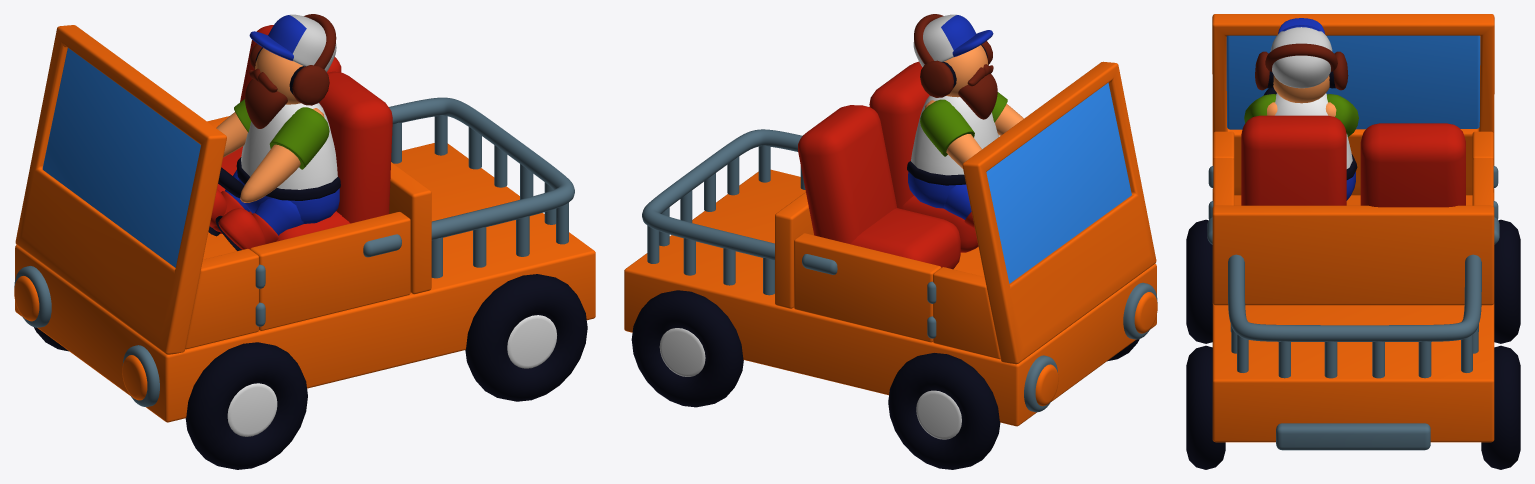
File: Car_v1.fbx
3 renders of one model, left to right at view 1: azimuth 30°, elevation 25°; view 2: azimuth 150°, elevation 25°; view 3: azimuth 270°, elevation 25°, orthographic. The views are drawn at different scales.
Parts seen in each view (by area): view 1: Cube.020, Cube.021, Cube.015, Cube.027, Torus.002, WheelLeft, Cube.024, NurbsPath.002, Cube.028, Cylinder.010, Cube.022, Cube.186 (+18 smaller); view 2: Cube.020, Cube.021, Cube.015, Cube.027, Cube.026, WheelRight, Torus.002, NurbsPath.002, Cube.028, Cube.024, Cube.025, Cylinder.010 (+17 smaller); view 3: Cube.020, Cube.022, Cube.015, Cube.021, Cube.024, Cube.026, Torus.002, NurbsPath.002, Cube.017, Cylinder.010, WheelLeft, WheelRight (+8 smaller).
Part boxes in pixels (left/top/right/bottom): Cube.020: left=15, top=143, right=595, bottom=422; Cube.021: left=15, top=25, right=226, bottom=354; Cube.015: left=42, top=48, right=200, bottom=267; Cube.027: left=207, top=116, right=410, bottom=330; Torus.002: left=465, top=274, right=587, bottom=401; WheelLeft: left=185, top=342, right=307, bottom=469; Cube.024: left=319, top=71, right=392, bottom=223; NurbsPath.002: left=389, top=97, right=574, bottom=240; Cube.028: left=185, top=248, right=258, bottom=349; Cylinder.010: left=391, top=115, right=568, bottom=278; Cube.022: left=389, top=162, right=431, bottom=294; Cube.186: left=241, top=103, right=337, bottom=189; Cube.020: left=624, top=169, right=1156, bottom=426; Cube.021: left=962, top=61, right=1156, bottom=364; Cube.015: left=986, top=82, right=1131, bottom=283; Cube.027: left=794, top=233, right=941, bottom=342; Cube.026: left=798, top=105, right=897, bottom=244; WheelRight: left=888, top=353, right=1000, bottom=469; Torus.002: left=631, top=290, right=743, bottom=407; NurbsPath.002: left=642, top=129, right=802, bottom=260; Cube.028: left=933, top=267, right=1000, bottom=359; Cube.024: left=869, top=61, right=929, bottom=208; Cube.025: left=851, top=208, right=960, bottom=269; Cylinder.010: left=647, top=145, right=805, bottom=295; Cube.020: left=1212, top=189, right=1494, bottom=442; Cube.022: left=1212, top=205, right=1494, bottom=305; Cube.015: left=1226, top=35, right=1480, bottom=129; Cube.021: left=1212, top=14, right=1494, bottom=195; Cube.024: left=1241, top=115, right=1346, bottom=205; Cube.026: left=1360, top=123, right=1465, bottom=207; Torus.002: left=1186, top=345, right=1520, bottom=469; NurbsPath.002: left=1228, top=254, right=1481, bottom=341; Cube.017: left=1276, top=423, right=1430, bottom=450; Cylinder.010: left=1230, top=324, right=1478, bottom=378; WheelLeft: left=1186, top=219, right=1212, bottom=343; WheelRight: left=1494, top=219, right=1520, bottom=343.
Bounding box in the file's own units: 523 × 422 × 359.
